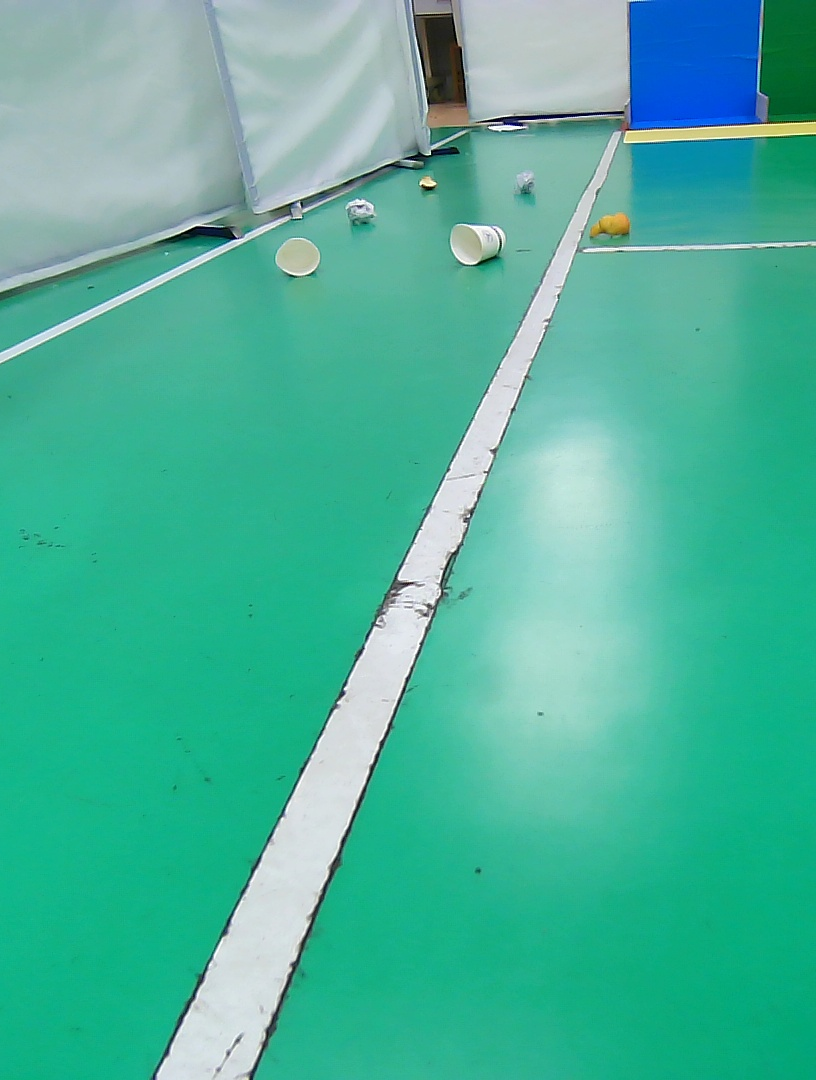orangepeel: (584, 209, 635, 243), (411, 172, 445, 197)
papercup: (447, 221, 509, 266), (272, 234, 323, 279)
spitball: (343, 197, 378, 229), (511, 169, 539, 198)
